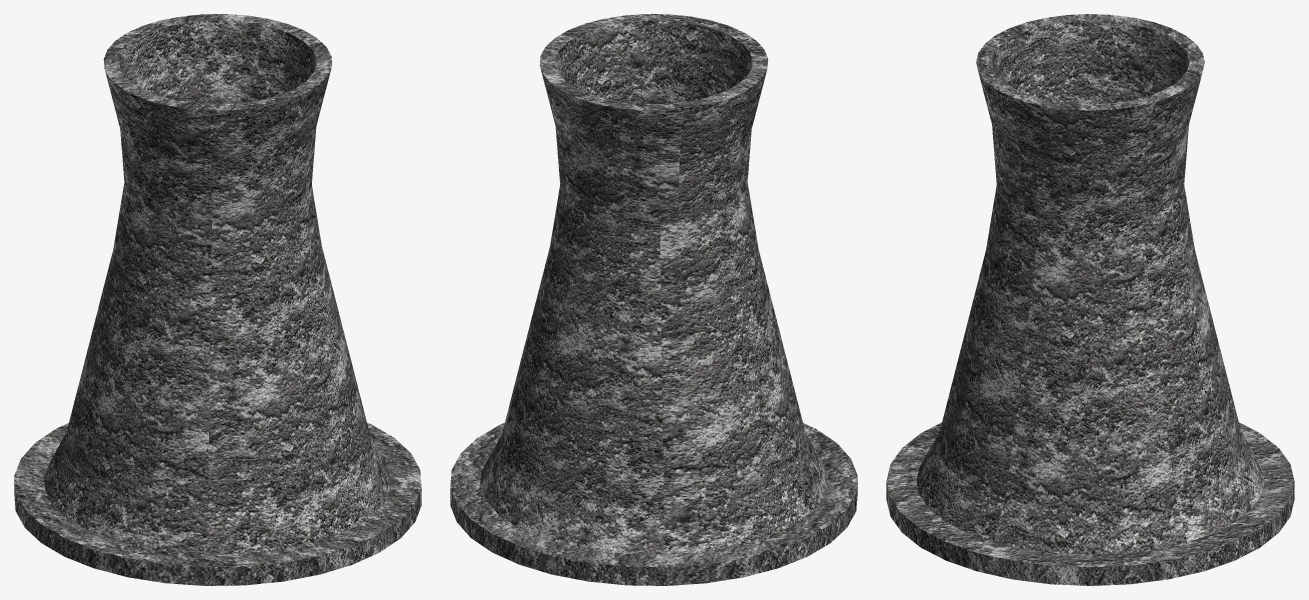
File: bg_cooling_tower.glb
3 renders of one model, left to right at view 1: azimuth 30°, elevation 25°; view 2: azimuth 150°, elevation 25°; view 3: azimuth 270°, elevation 25°, orthographic.
Visible parts, largest first — view 1: Cylinder; view 2: Cylinder; view 3: Cylinder.
Boxes of the visible parts, <box> form: Cylinder: <box>14,14,421,585</box>; Cylinder: <box>450,14,857,585</box>; Cylinder: <box>886,14,1294,585</box>.
Bounding box in the file's own units: 13.94 × 16.49 × 13.94.
1 material, 1 textured.
